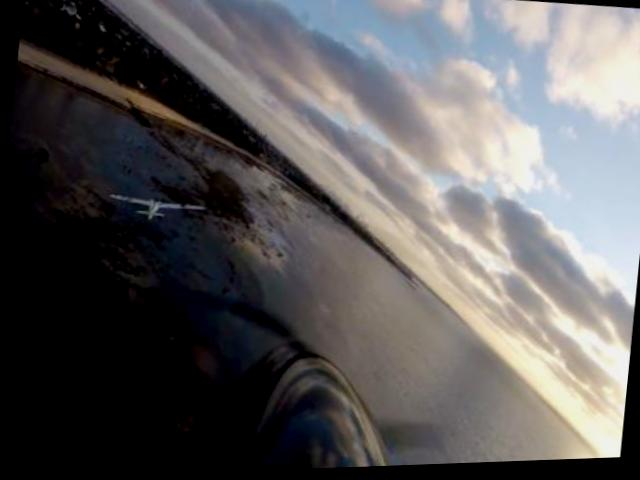uav: (102, 187, 207, 230)
